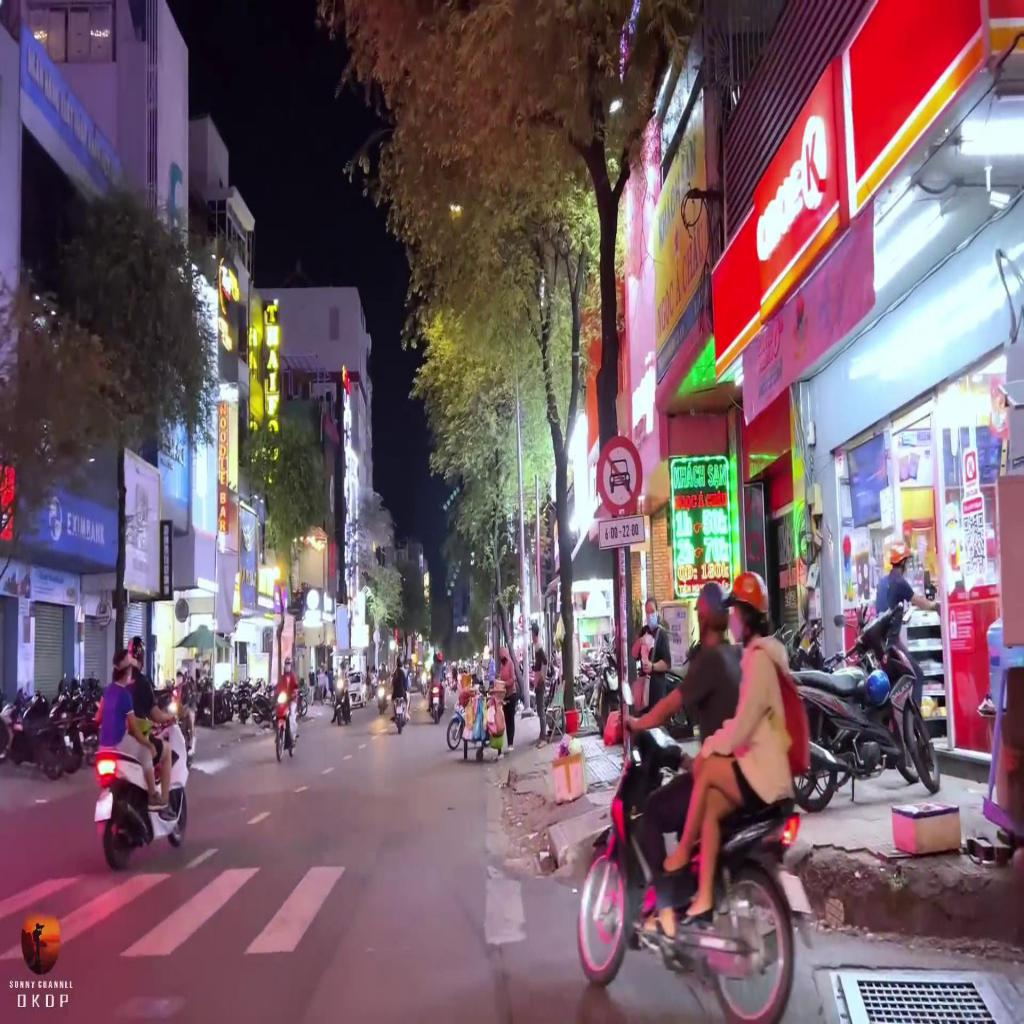cam_o_to: (596, 433, 643, 514)
khac: (599, 515, 645, 548)
